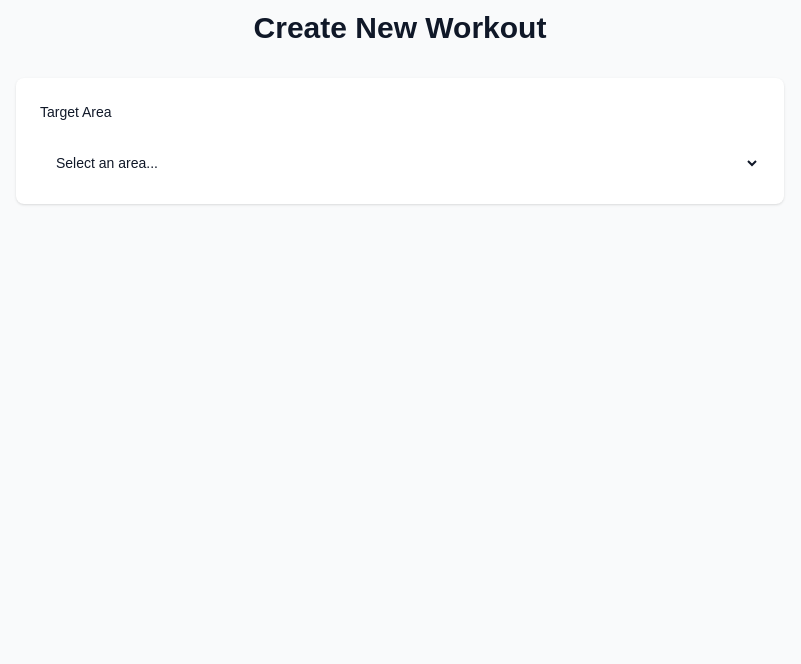
Scenario: CreateWorkout Page › allows adding sets to an exercise
Select "Push" in the dropdown labelled "Target Area" at x=400, y=163, box [40,146,760,180]
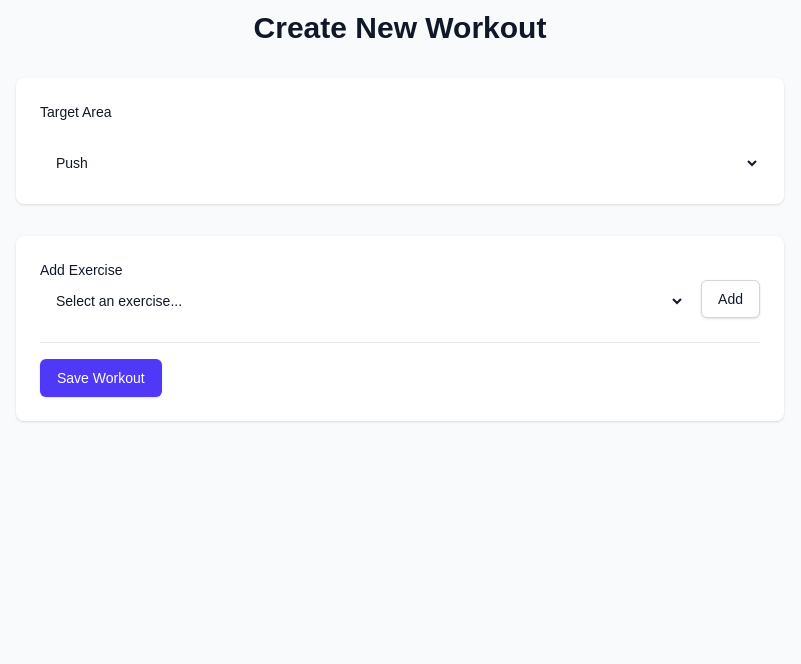
Select "Bench Press" in the dropdown labelled "Add Exercise" at x=363, y=301, box [40,284,685,318]
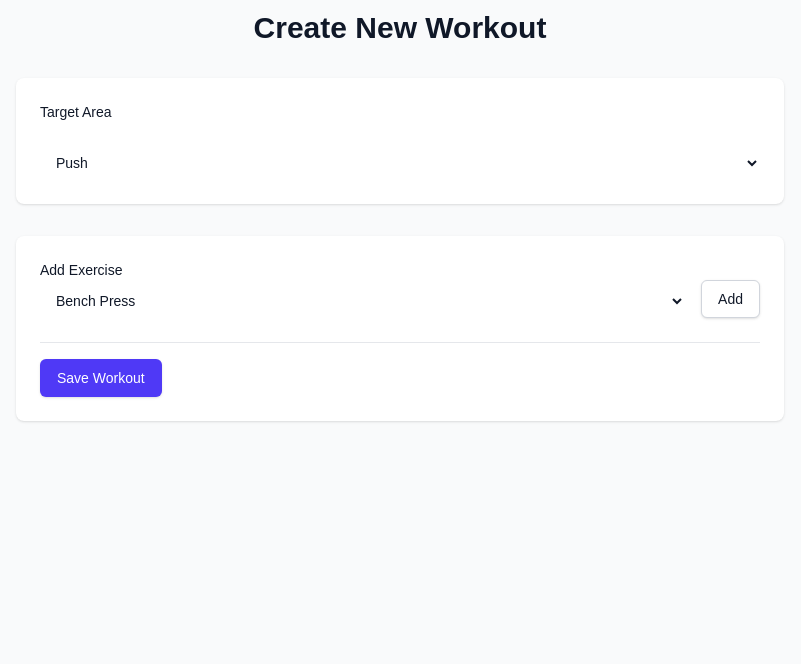
Click the button "Add" at x=731, y=299, box [701,280,760,318]
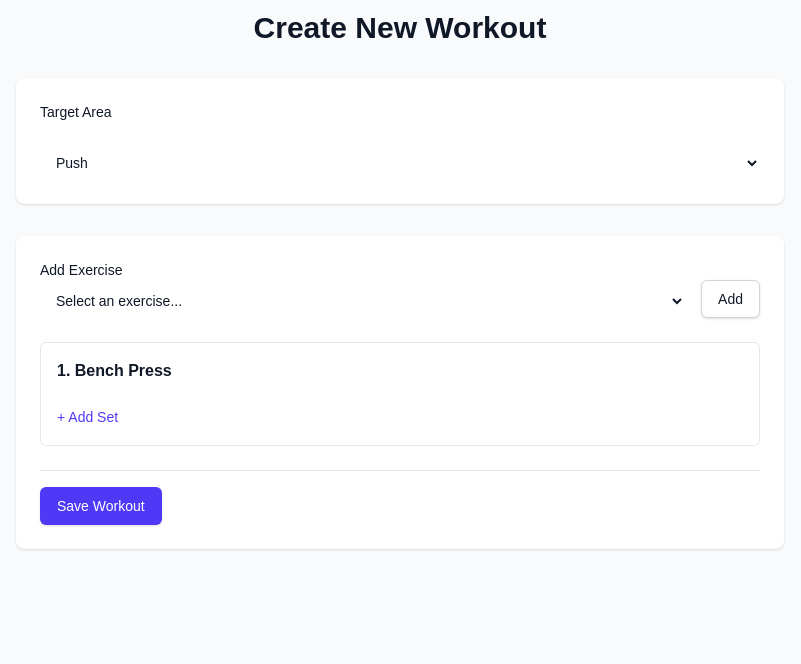
Click the button "+ Add Set" at x=88, y=417, box [57,407,118,427]
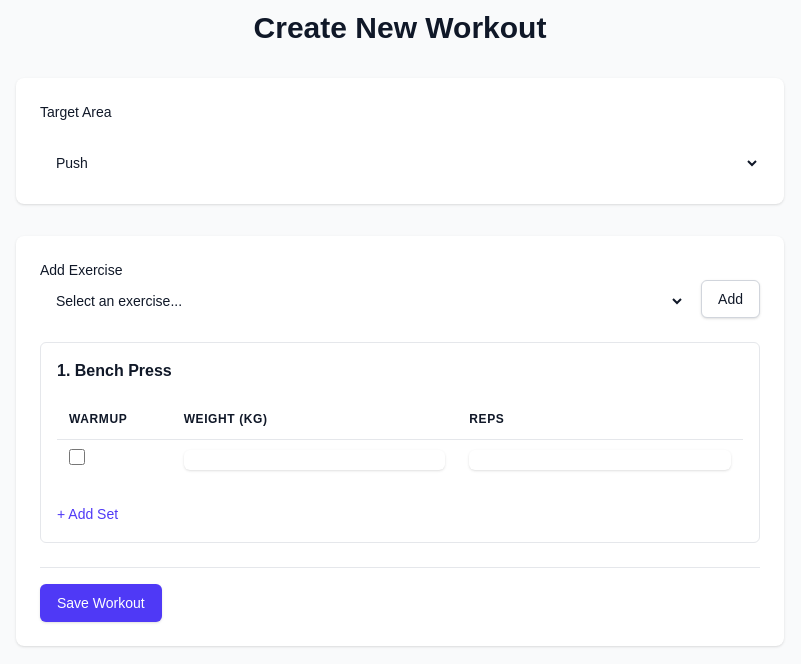
Now the checkbox is shown, box [69,449,85,465]
